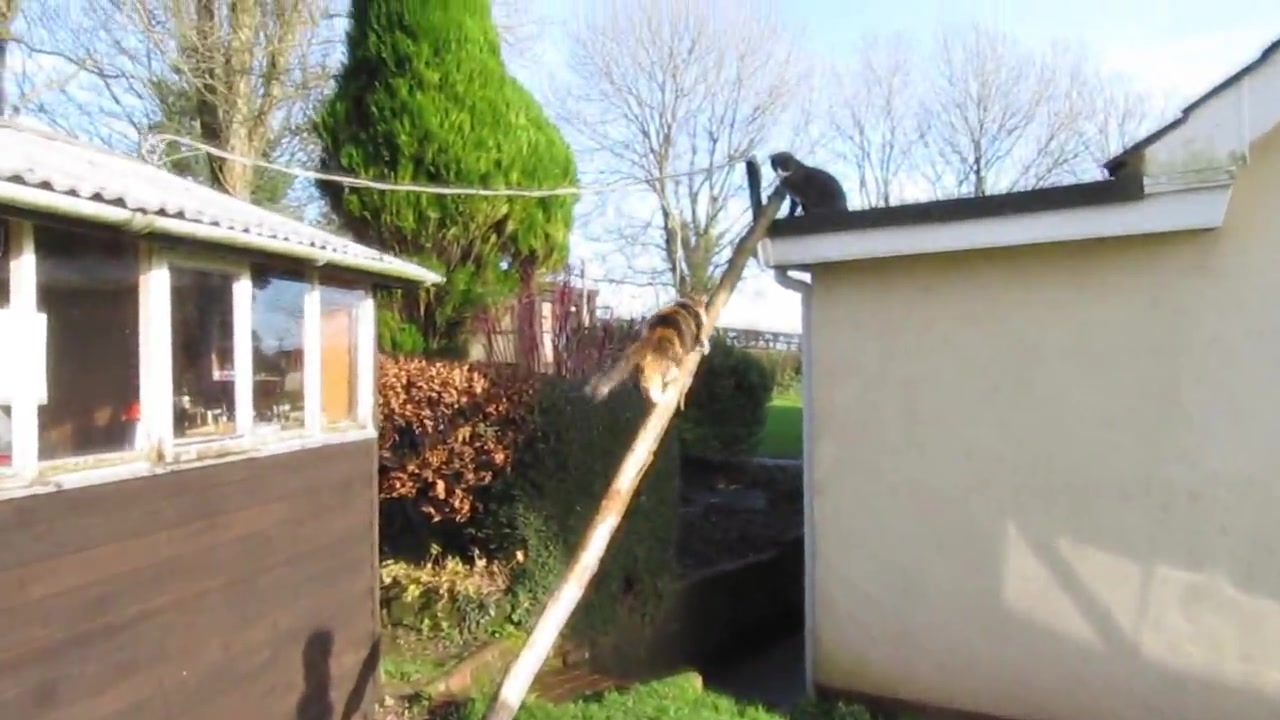cat: (581, 292, 715, 416)
